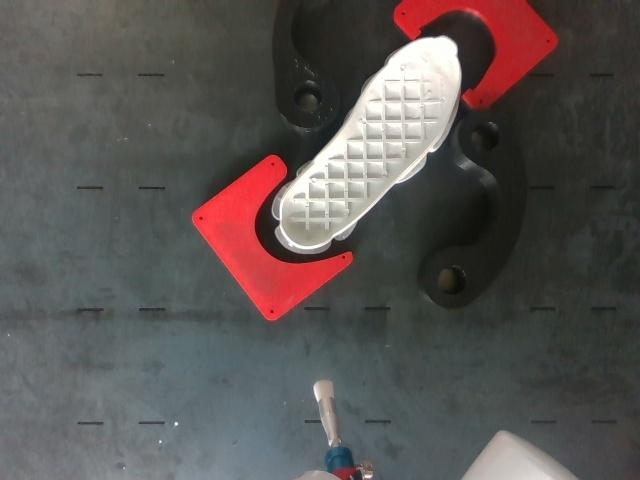shoes: (280, 37, 459, 247)
